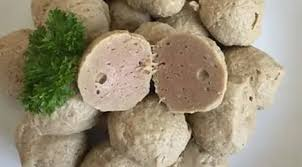bakso: (10, 1, 279, 167)
